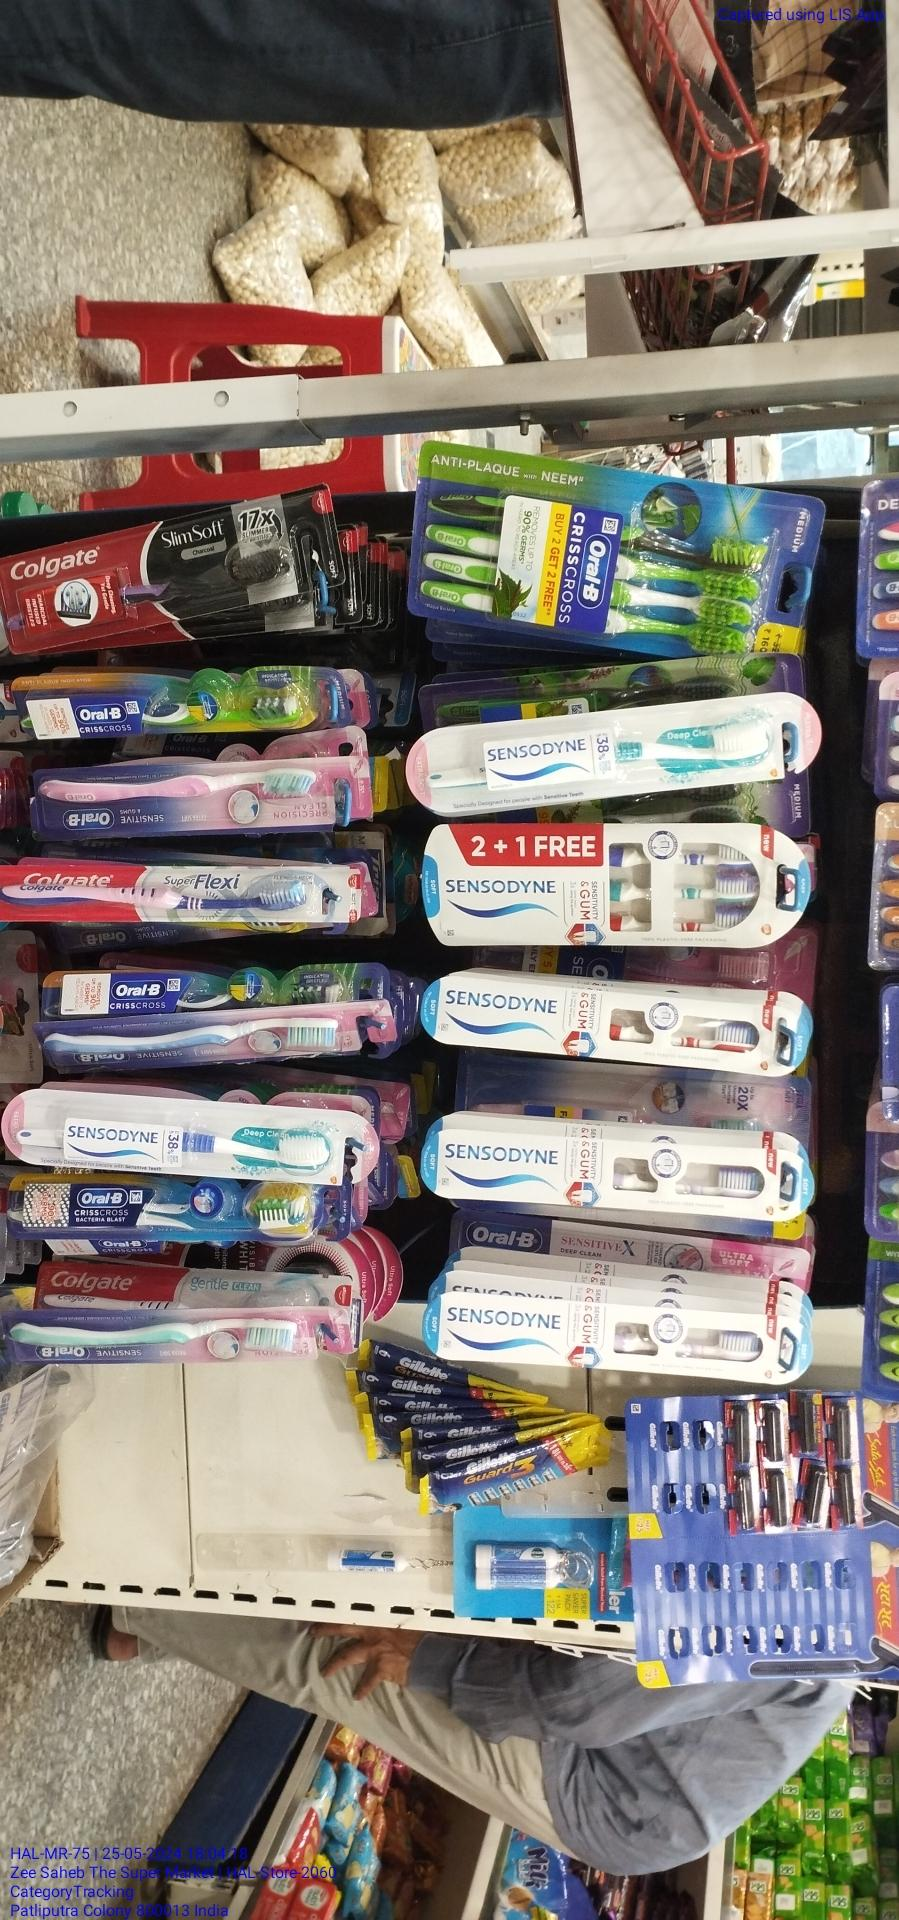16: (385, 192, 445, 1019)
9: (312, 1187, 344, 1920), (451, 1090, 473, 1838)
soap: (247, 1200, 301, 1920)
